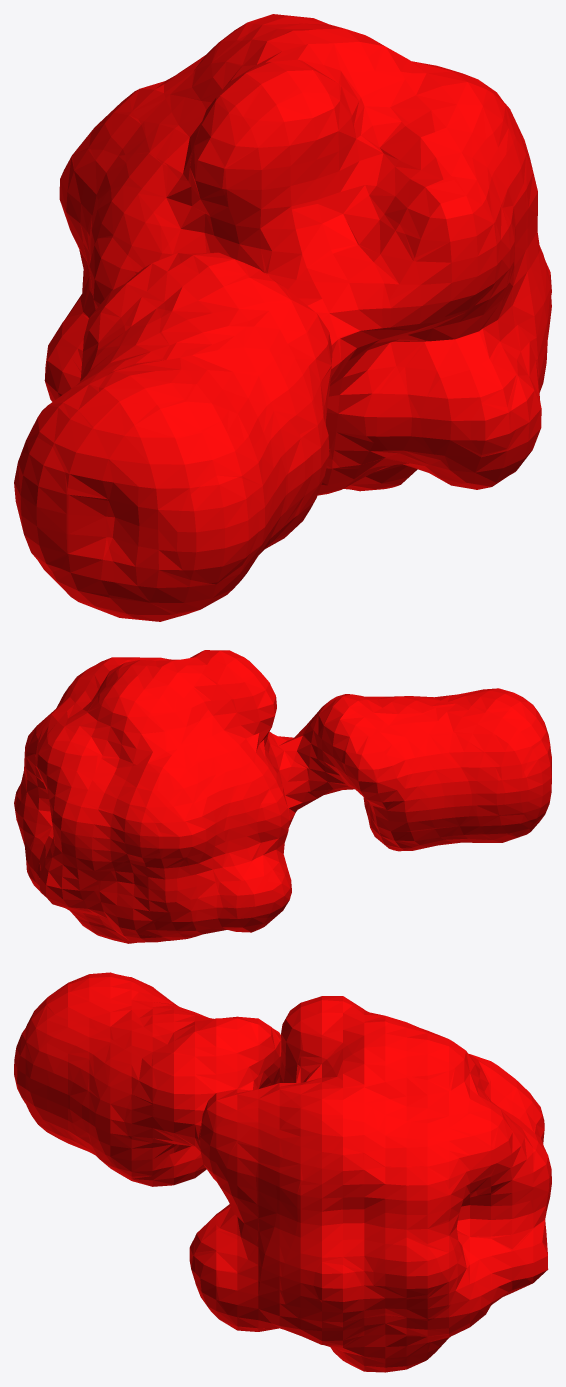
File: atpE_coarse.dae
3 renders of one model, top to bottom at view 1: azimuth 30°, elevation 25°; view 2: azimuth 150°, elevation 25°; view 3: azimuth 270°, elevation 25°, orthographic. The views are drawn at different scales.
Visible parts, largest first — view 1: atpE; view 2: atpE; view 3: atpE.
Boxes of the visible parts, left/top/right/bottom form: atpE: left=14, top=14, right=551, bottom=621; atpE: left=14, top=650, right=551, bottom=943; atpE: left=14, top=972, right=551, bottom=1372.
Size of the model in its own units: 178 by 119 by 177.
